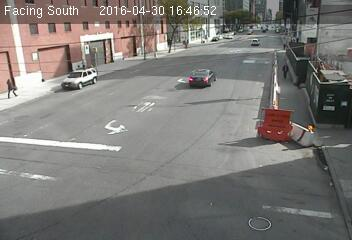neg: (250, 34, 260, 46), (212, 56, 219, 66)
pos: (2, 75, 18, 96), (277, 58, 291, 77)
